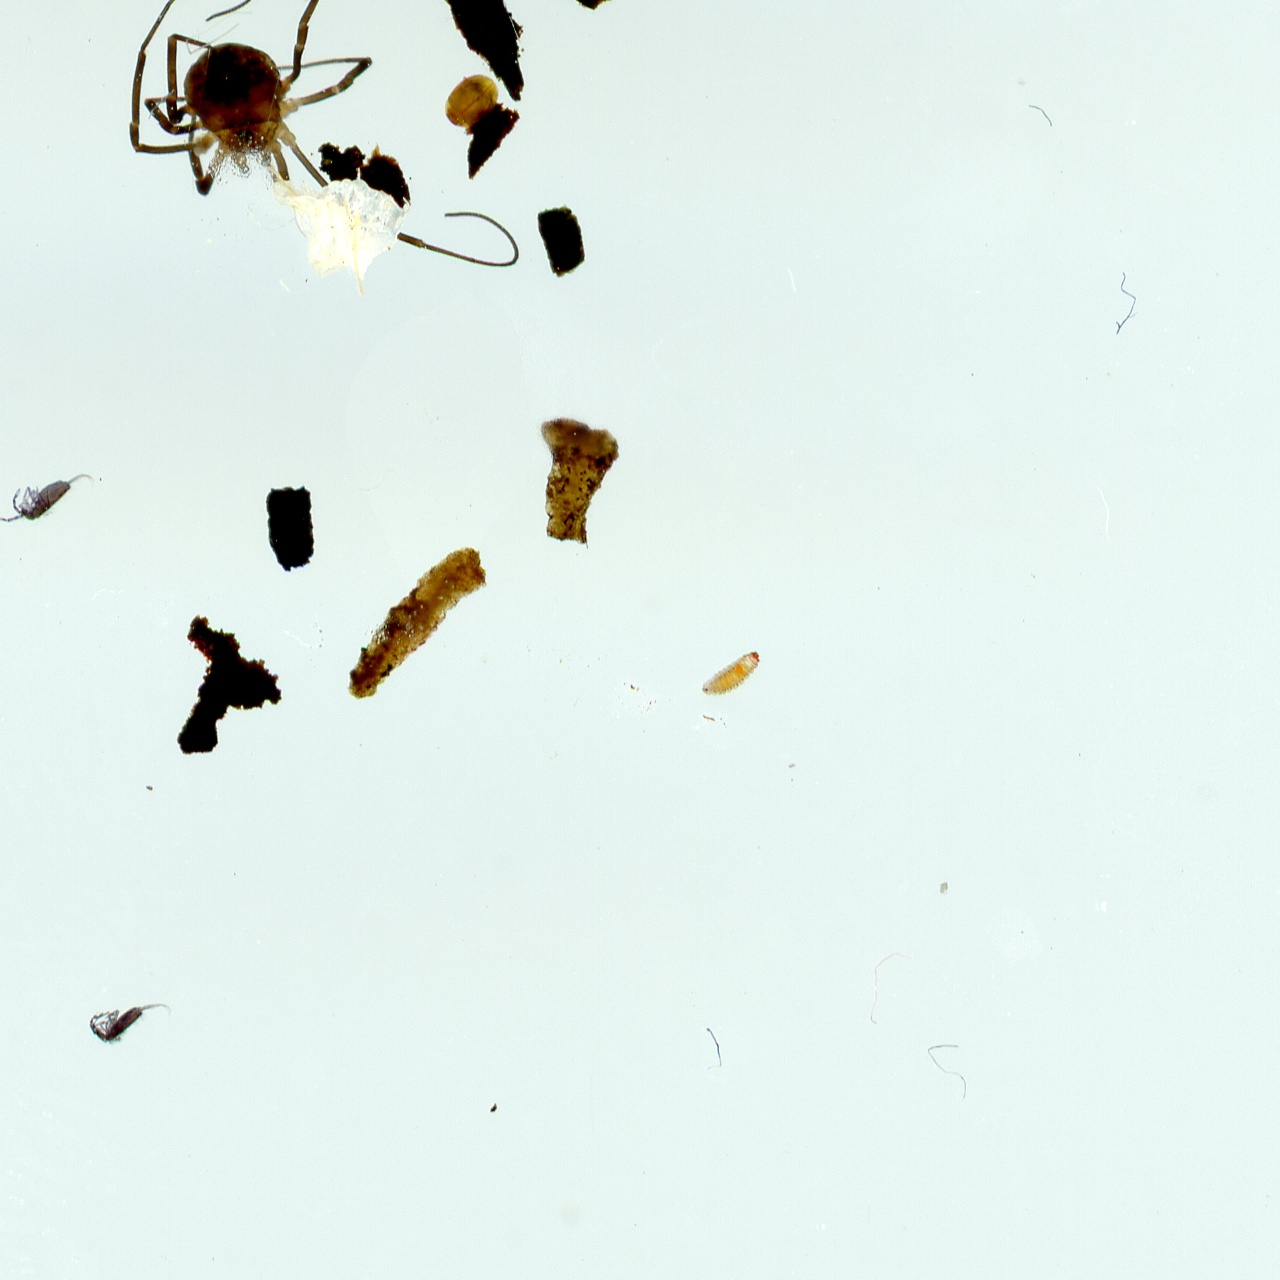arthropod: (124, 0, 523, 273), (0, 472, 96, 527), (439, 65, 503, 144), (89, 1003, 172, 1046), (702, 651, 760, 697)
